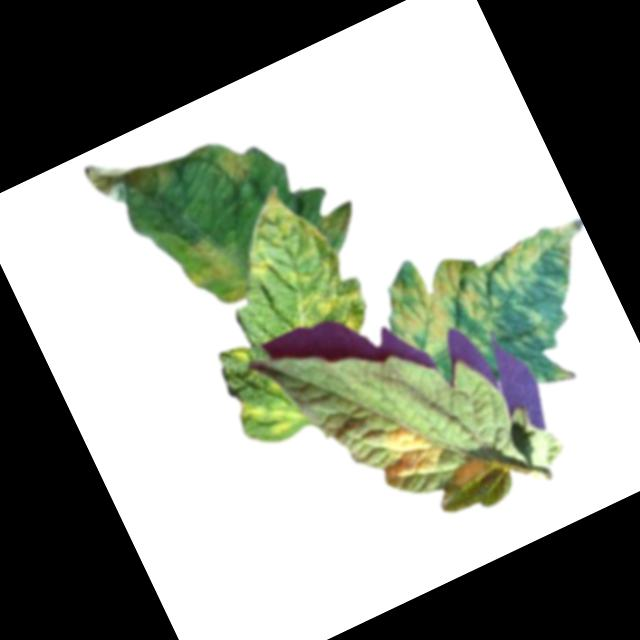Leaf_Mold: (371, 186, 607, 366), (223, 176, 349, 314), (80, 132, 178, 222), (284, 268, 380, 354), (172, 227, 257, 318), (368, 410, 450, 491), (232, 375, 308, 449), (209, 135, 264, 191), (313, 199, 363, 246), (444, 452, 491, 493), (224, 339, 254, 368)
